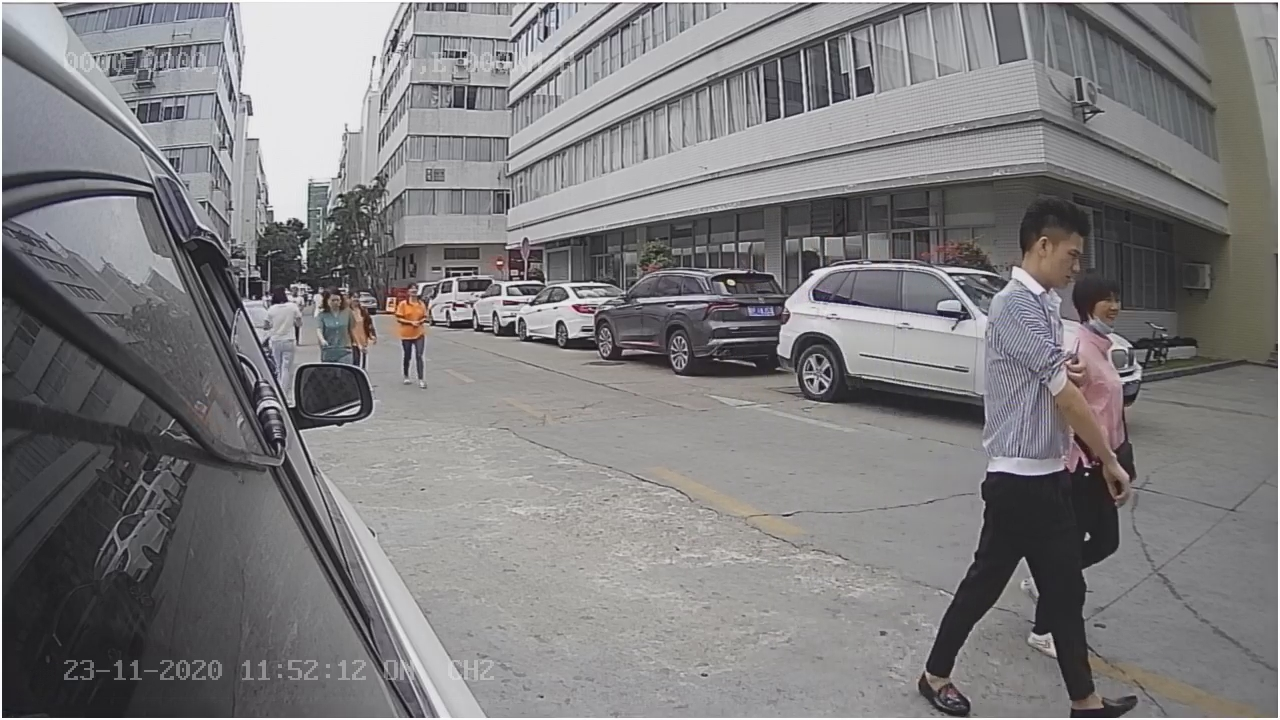person: (908, 191, 1144, 713)
